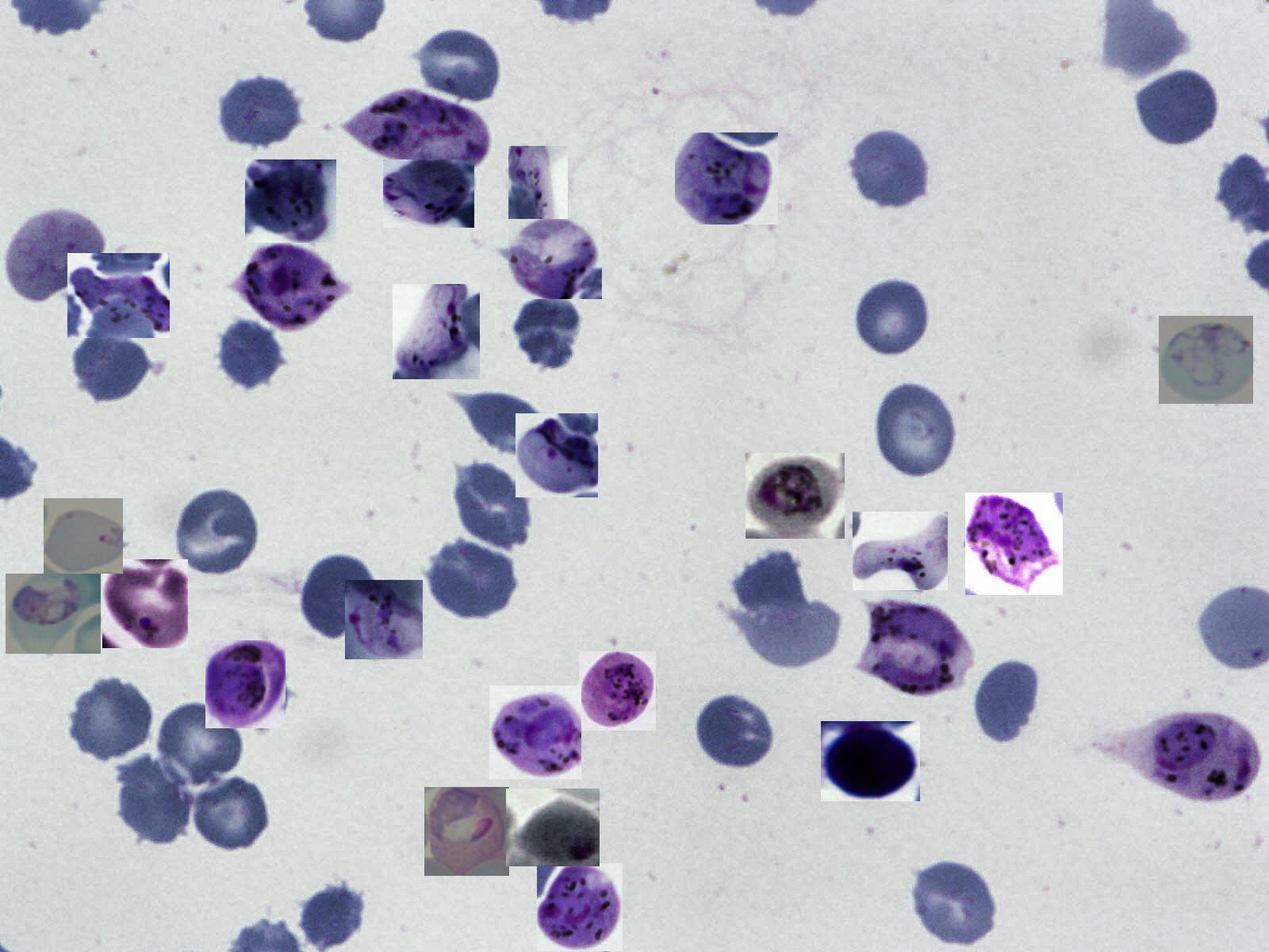Infected: (339, 90, 491, 171), (1144, 710, 1259, 807), (864, 599, 972, 701), (2, 208, 108, 305), (234, 243, 343, 335), (965, 493, 1063, 595), (675, 132, 778, 225), (67, 253, 170, 338), (489, 685, 581, 779), (746, 453, 845, 539), (1159, 316, 1253, 404), (393, 284, 480, 379), (821, 721, 920, 801), (102, 559, 188, 648), (245, 159, 336, 243), (6, 574, 101, 654), (537, 863, 623, 951), (424, 787, 509, 876), (508, 219, 602, 299), (853, 512, 948, 590), (506, 789, 600, 866), (205, 640, 286, 728), (516, 413, 598, 497), (383, 160, 474, 228), (345, 581, 423, 660), (579, 651, 656, 731), (44, 498, 123, 574), (508, 146, 568, 239)
Uninfected: (152, 699, 247, 793), (875, 378, 960, 483), (909, 856, 1001, 948), (175, 486, 263, 581), (113, 747, 196, 847), (450, 459, 535, 553), (426, 536, 521, 620), (67, 674, 156, 763), (299, 551, 384, 642), (730, 601, 845, 667), (415, 24, 504, 107), (970, 654, 1046, 750), (1133, 66, 1221, 147), (849, 127, 933, 210), (216, 73, 304, 151), (853, 276, 933, 360), (454, 393, 558, 457), (68, 328, 154, 405), (694, 692, 776, 771), (190, 773, 270, 853), (509, 292, 584, 373), (216, 318, 286, 392), (298, 885, 365, 950)
